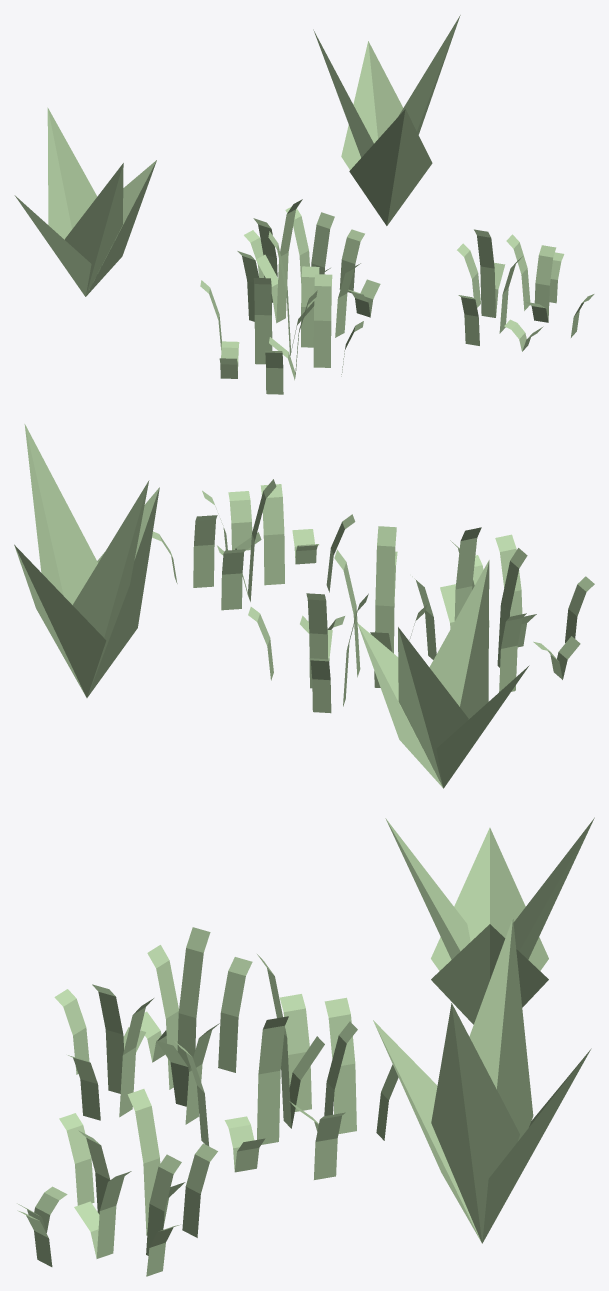
Rendered from crafted-orchard-abandoned.glb.
3 views of the same model, one above another, from view 1: azimuth 30°, elevation 25°; view 2: azimuth 150°, elevation 25°; view 3: azimuth 270°, elevation 25° (orthographic). The views are drawn at different scales.
Visible parts, largest first — view 1: vegetation-1, vegetation-0, vegetation-2, vegetation-4, vegetation-3; view 2: vegetation-1, vegetation-0, vegetation-3, vegetation-2, vegetation-4; view 3: vegetation-1, vegetation-0, vegetation-4, vegetation-2, vegetation-3.
Part boxes in pixels (box(x1,y1,x2,y2)): vegetation-1: box(313, 15, 460, 225); vegetation-0: box(14, 107, 156, 296); vegetation-2: box(200, 231, 363, 394); vegetation-4: box(237, 199, 380, 337); vegetation-3: box(457, 229, 594, 351); vegetation-1: box(14, 424, 159, 697); vegetation-0: box(357, 560, 529, 788); vegetation-3: box(152, 479, 355, 610); vegetation-2: box(412, 527, 594, 691); vegetation-4: box(248, 526, 427, 713); vegetation-1: box(373, 918, 591, 1243); vegetation-0: box(385, 817, 594, 1024); vegetation-4: box(174, 954, 398, 1179); vegetation-2: box(54, 927, 252, 1124); vegetation-3: box(17, 1089, 217, 1276).
Bounding box in the file's own units: 1.81 × 0.82 × 1.52.
